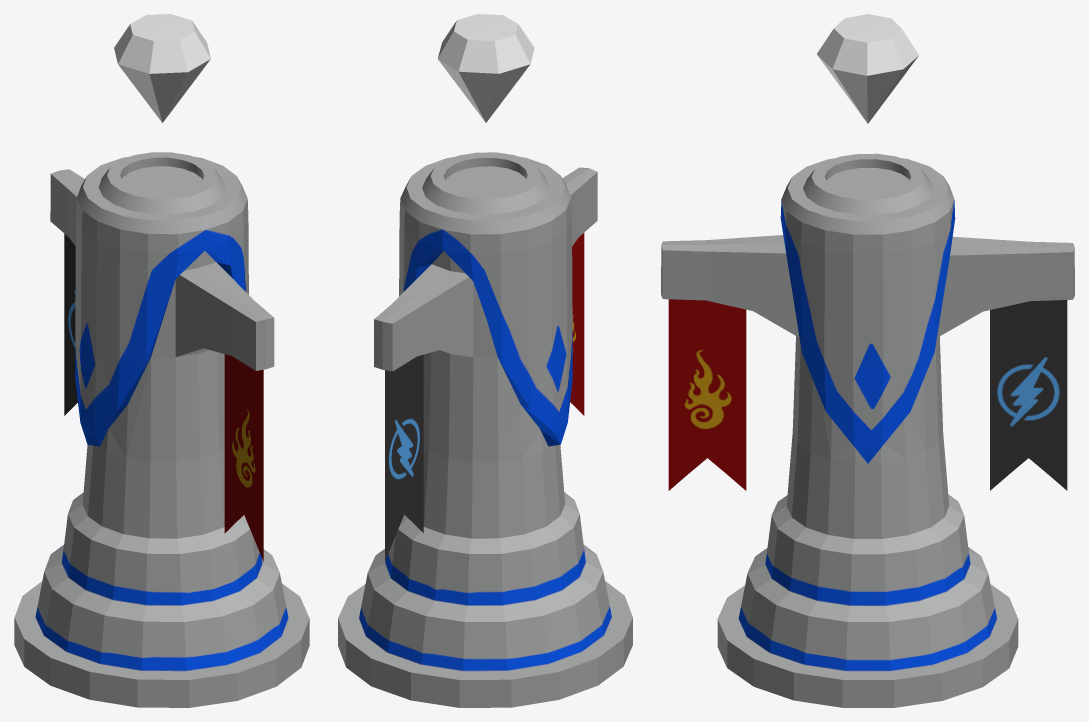
Rendered from Turret_1.fbx.
The picture shows the model from 3 angles, left to right: view 1: azimuth 30°, elevation 25°; view 2: azimuth 150°, elevation 25°; view 3: azimuth 270°, elevation 25°; orthographic projection.
Visible parts, largest first — view 1: Cylinder002, Plane001, Hedra002, Plane002; view 2: Cylinder002, Hedra002, Plane002, Plane001; view 3: Cylinder002, Plane001, Plane002, Hedra002.
Part boxes in pixels (<box>): Cylinder002: <box>14,152,309,707</box>; Plane001: <box>224,354,263,561</box>; Hedra002: <box>114,14,210,122</box>; Plane002: <box>64,234,77,415</box>; Cylinder002: <box>338,152,632,707</box>; Hedra002: <box>437,14,534,122</box>; Plane002: <box>385,354,423,560</box>; Plane001: <box>570,233,584,415</box>; Cylinder002: <box>661,153,1074,707</box>; Plane001: <box>668,299,746,490</box>; Plane002: <box>990,300,1067,490</box>; Hedra002: <box>817,14,918,123</box>.
Size of the model in its own units: 30.21 by 71.28 by 43.23.
